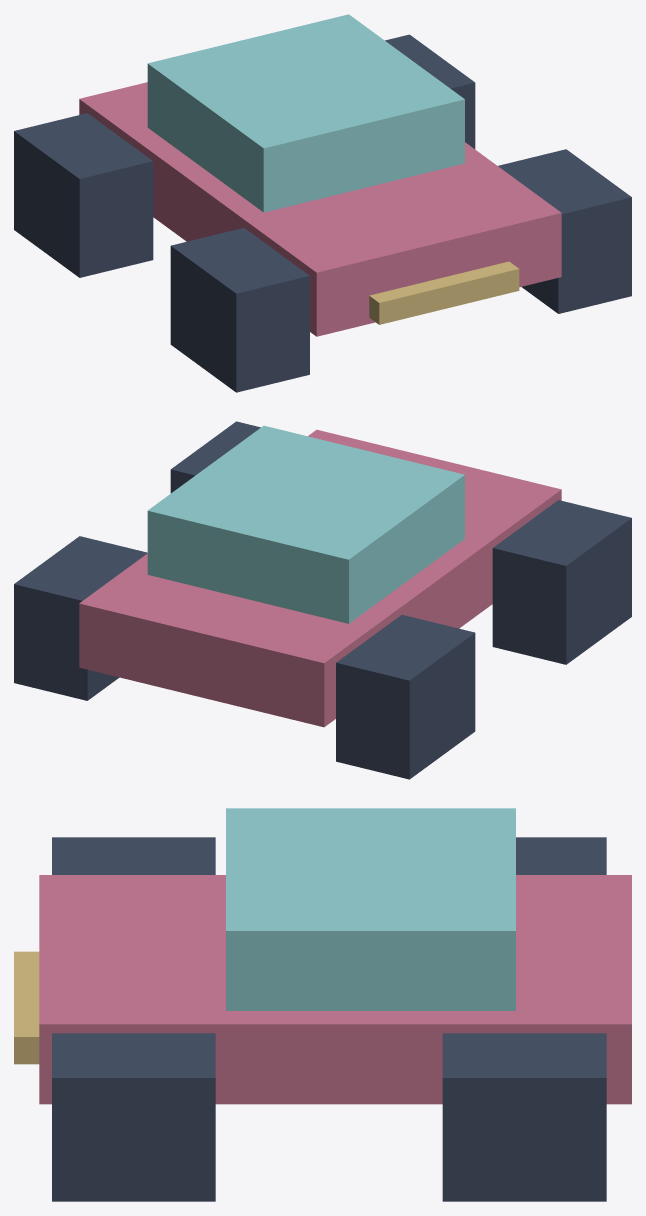
The model's file is auto_arcade.glb.
3 renders of one model, top to bottom at view 1: azimuth 30°, elevation 25°; view 2: azimuth 150°, elevation 25°; view 3: azimuth 270°, elevation 25°, orthographic. The views are drawn at different scales.
Visible parts, largest first — view 1: part_001, part_000, part_002, part_004, part_005, part_006, part_003; view 2: part_001, part_000, part_002, part_004, part_003, part_005; view 3: part_000, part_001, part_003, part_005, part_004, part_002, part_006.
Part boxes in pixels (x1=…): part_001: x1=147, y1=14, x2=464, y2=212; part_000: x1=79, y1=82, x2=561, y2=336; part_002: x1=14, y1=113, x2=153, y2=277; part_004: x1=170, y1=228, x2=309, y2=392; part_005: x1=498, y1=149, x2=631, y2=313; part_006: x1=369, y1=261, x2=519, y2=324; part_003: x1=385, y1=34, x2=475, y2=149; part_001: x1=147, y1=425, x2=464, y2=623; part_000: x1=79, y1=429, x2=561, y2=727; part_002: x1=336, y1=614, x2=475, y2=779; part_004: x1=492, y1=500, x2=631, y2=664; part_003: x1=14, y1=536, x2=147, y2=700; part_005: x1=170, y1=421, x2=260, y2=493; part_000: x1=39, y1=875, x2=631, y2=1104; part_001: x1=226, y1=808, x2=515, y2=1010; part_003: x1=442, y1=1033, x2=606, y2=1201; part_005: x1=52, y1=1033, x2=215, y2=1201; part_004: x1=52, y1=837, x2=215, y2=874; part_002: x1=516, y1=837, x2=606, y2=874; part_006: x1=14, y1=951, x2=39, y2=1064.
Bounding box in the file's own units: 2.26 × 0.925 × 2.45.
